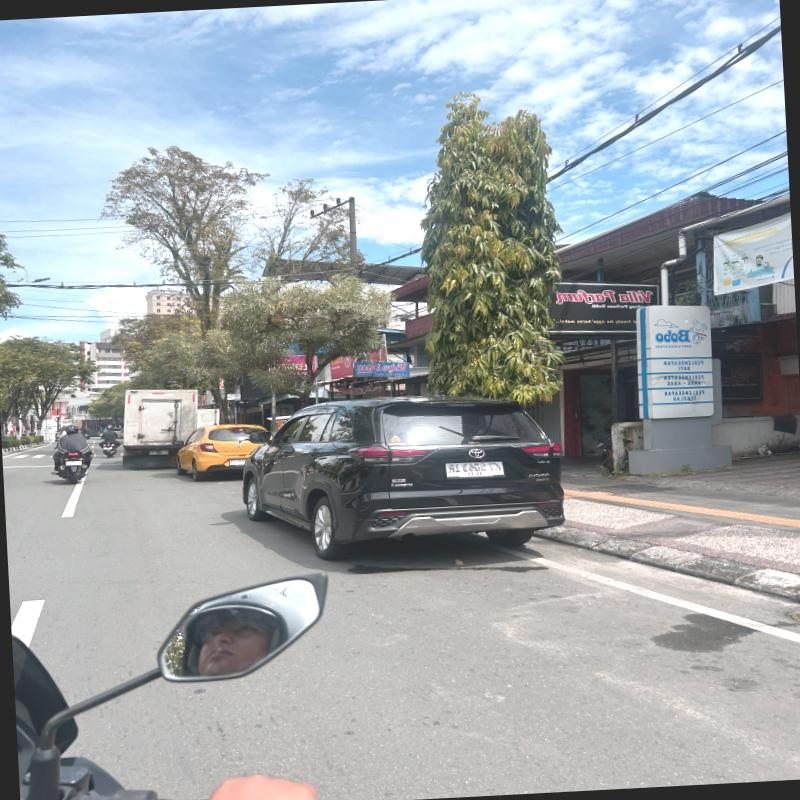license plate on a car: (446, 461, 504, 478), (229, 459, 247, 465), (149, 450, 169, 455)
